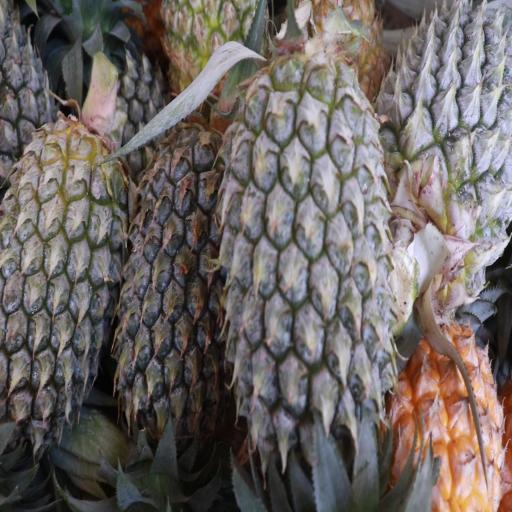Pineapple - v8 v1: (391, 317, 504, 512)
